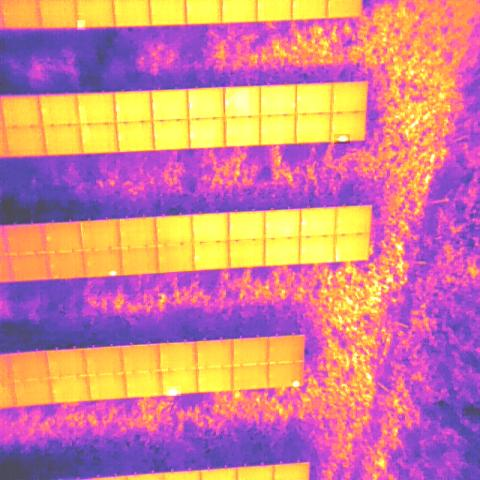fault: (334, 134, 350, 144), (166, 387, 181, 396), (291, 379, 301, 389), (78, 20, 86, 30), (109, 269, 116, 276)
